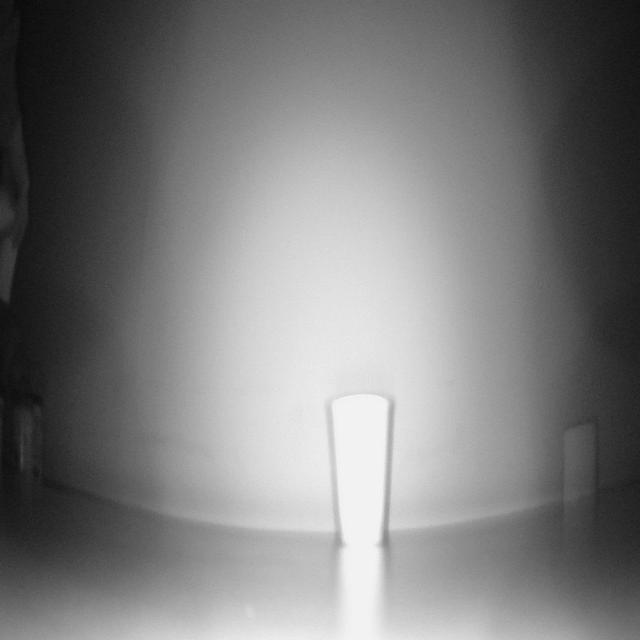targets: (326, 390, 394, 540), (562, 420, 598, 509), (12, 402, 46, 488)
